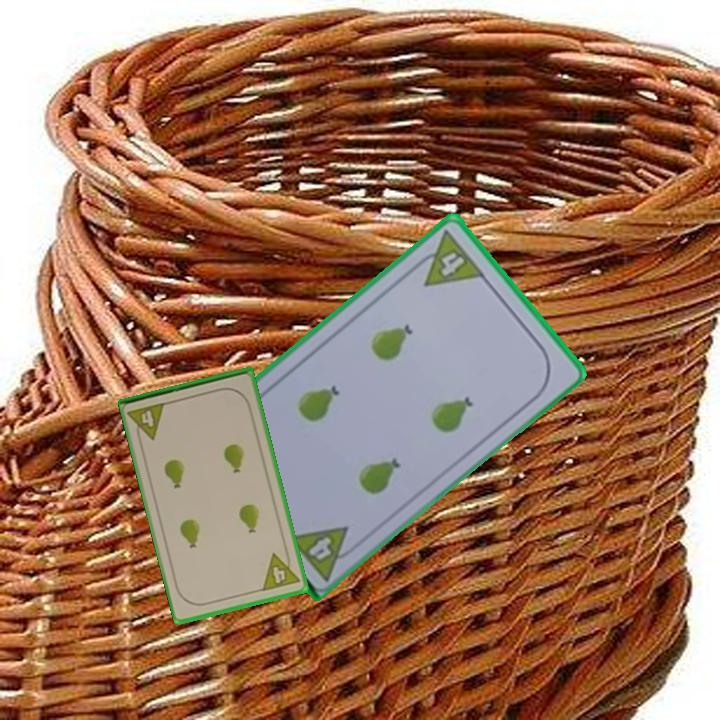4p: (407, 226, 488, 289), (283, 522, 363, 582), (125, 399, 169, 445), (259, 547, 302, 594)
